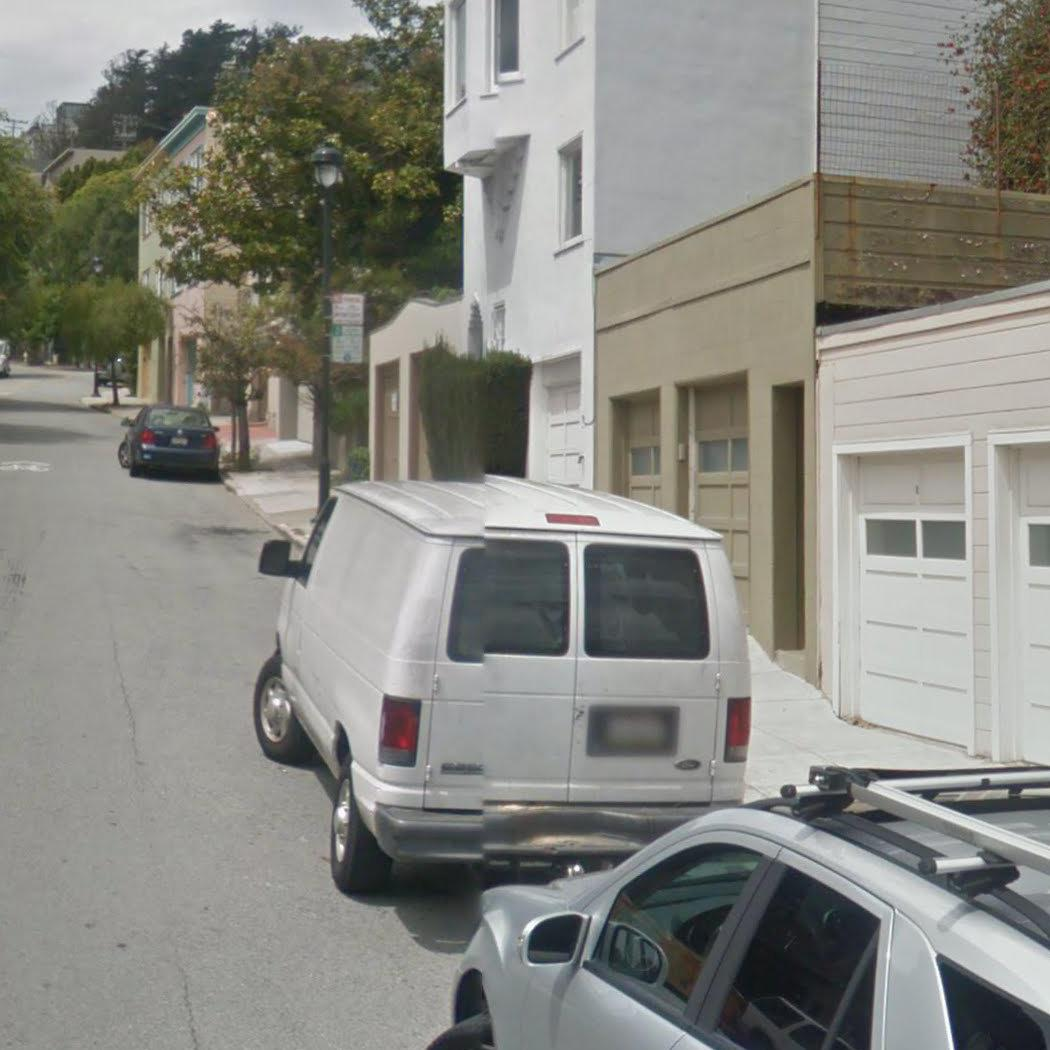2 Hour Parking: (329, 328, 364, 364)
No Parking: (331, 291, 365, 326)
